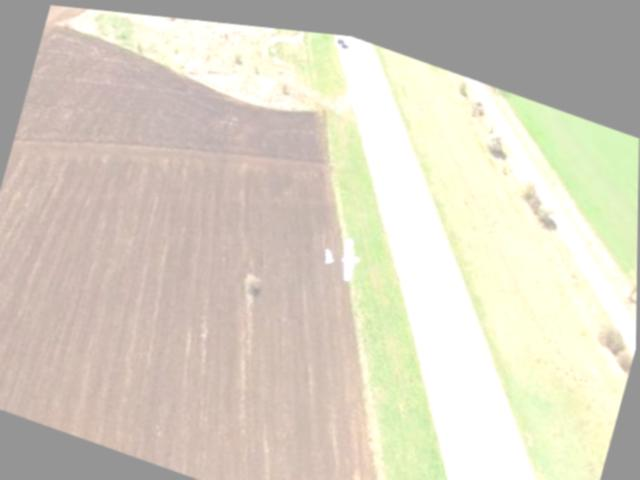uav: (315, 216, 375, 283)
